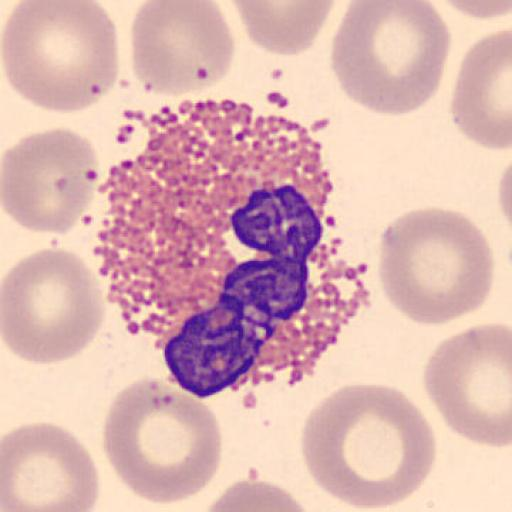RBC: (298, 381, 437, 512), (101, 374, 223, 508), (376, 205, 496, 327), (329, 0, 452, 118), (1, 0, 121, 116), (1, 246, 106, 366), (422, 322, 512, 452), (2, 126, 100, 235), (130, 0, 236, 99), (1, 420, 101, 512), (451, 28, 512, 152), (229, 0, 339, 56), (201, 476, 314, 512), (434, 0, 512, 23), (496, 157, 512, 228)
WBC: (95, 125, 362, 398), (90, 102, 344, 348)
